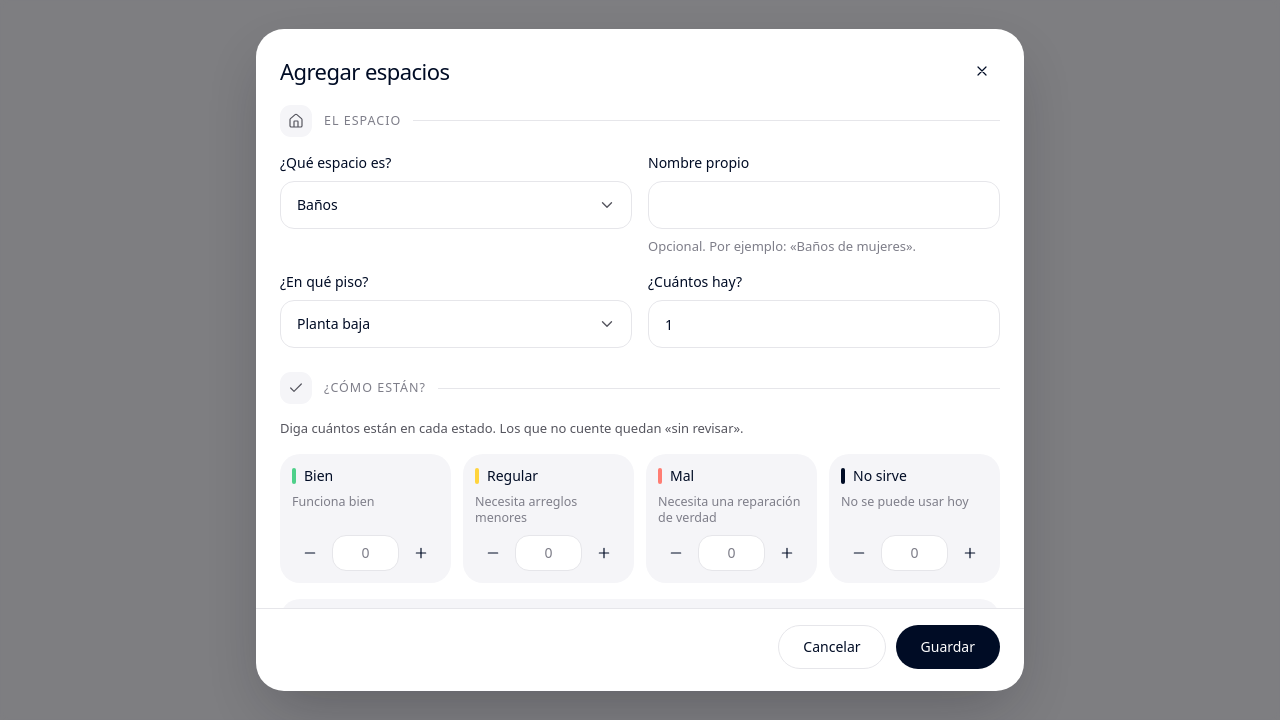
a group of spaces › what fails is asked only when something is not good, and beds only for bedrooms
This screenshot has width=1280, height=720.
Expected: the text "Fugas de agua" is not shown
Step 1. Type "1" into the field labelled "Regular" → (548, 553), box [515,535,582,571]
(page scrolled)
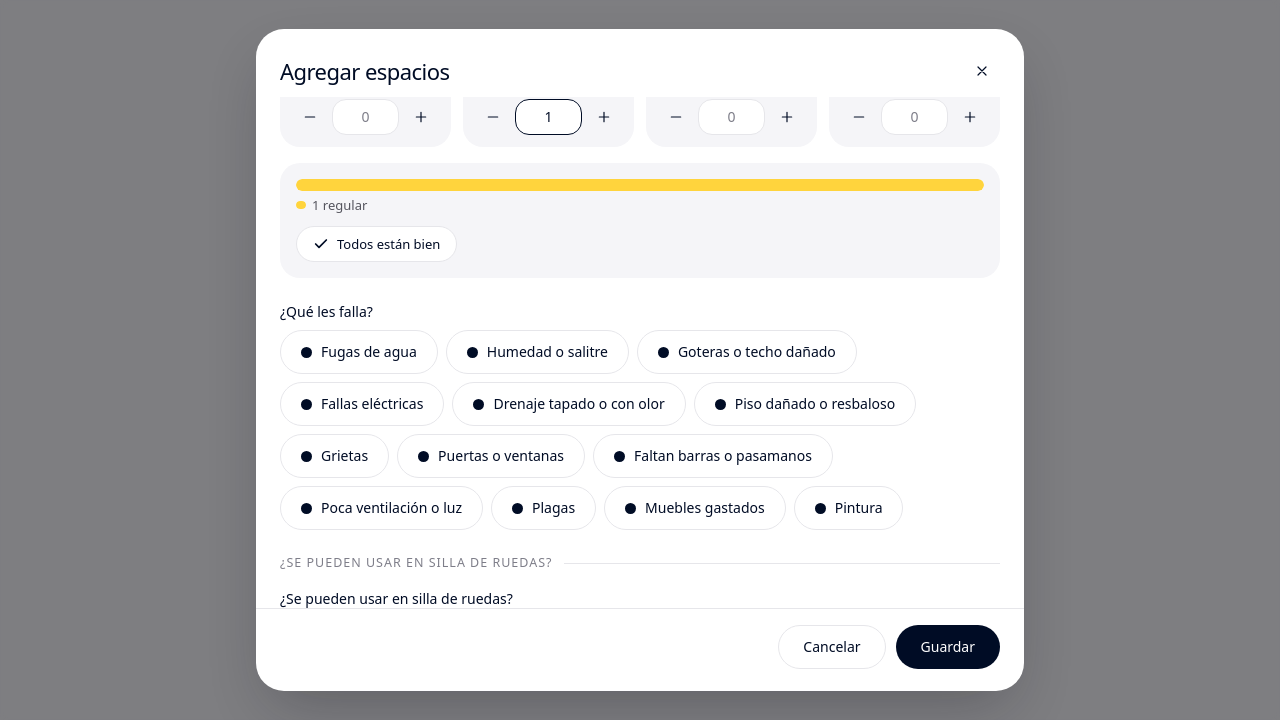
Expected: the text "Fugas de agua" is shown, [280,330,438,374]
